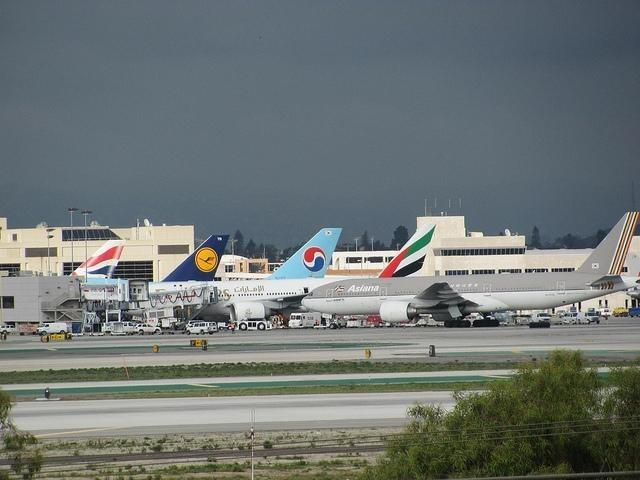car: (133, 322, 162, 336), (463, 314, 483, 326), (564, 313, 578, 324), (556, 310, 568, 316)
truck: (288, 312, 322, 329), (233, 317, 274, 331), (36, 323, 69, 336), (528, 311, 551, 328), (186, 322, 218, 334), (576, 312, 600, 326), (112, 322, 136, 335), (612, 306, 628, 318), (0, 324, 16, 334), (596, 308, 611, 316), (346, 321, 360, 328)
